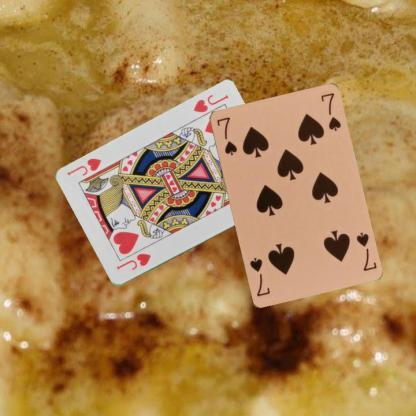7s: (353, 230, 378, 272), (214, 114, 238, 156)
Jh: (191, 92, 229, 114), (113, 251, 152, 272)
